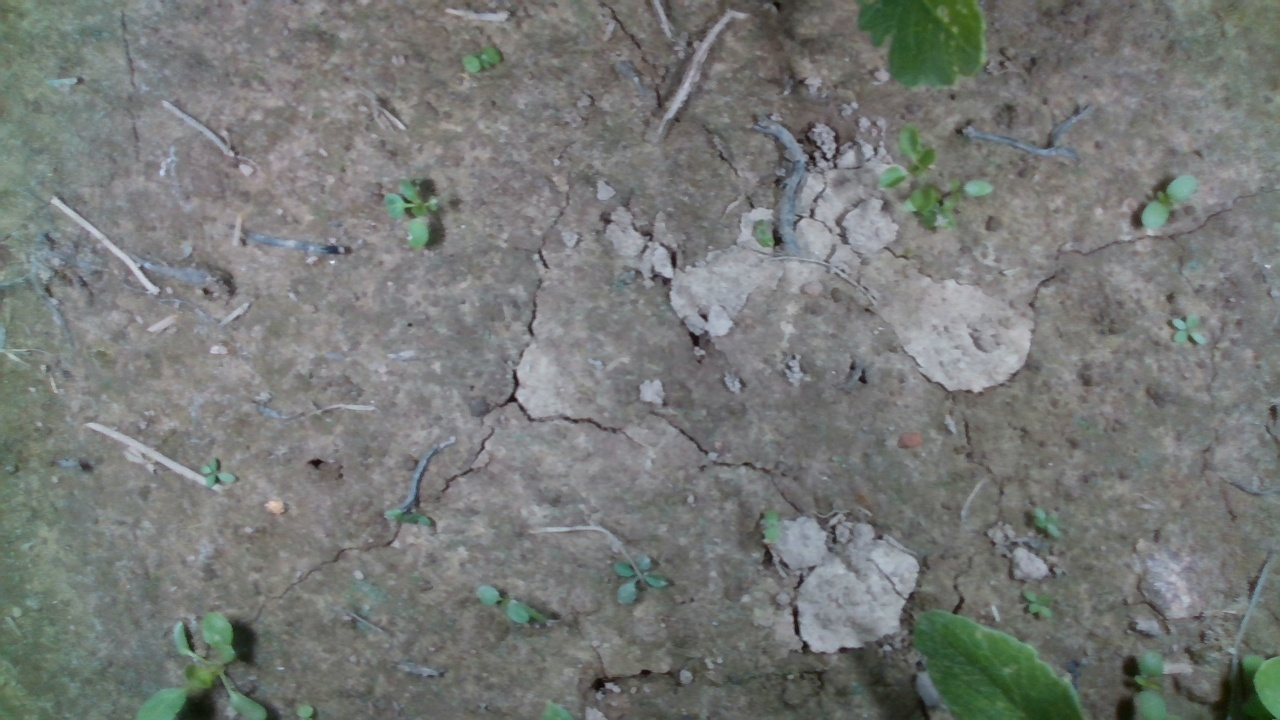weed: (1138, 171, 1199, 232), (472, 583, 530, 625), (1170, 313, 1207, 347), (460, 46, 503, 73)
